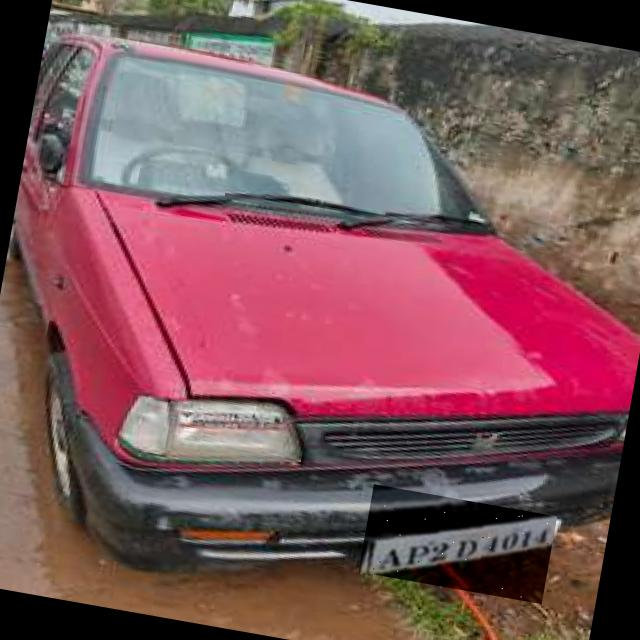Plate: (359, 485, 558, 605)
